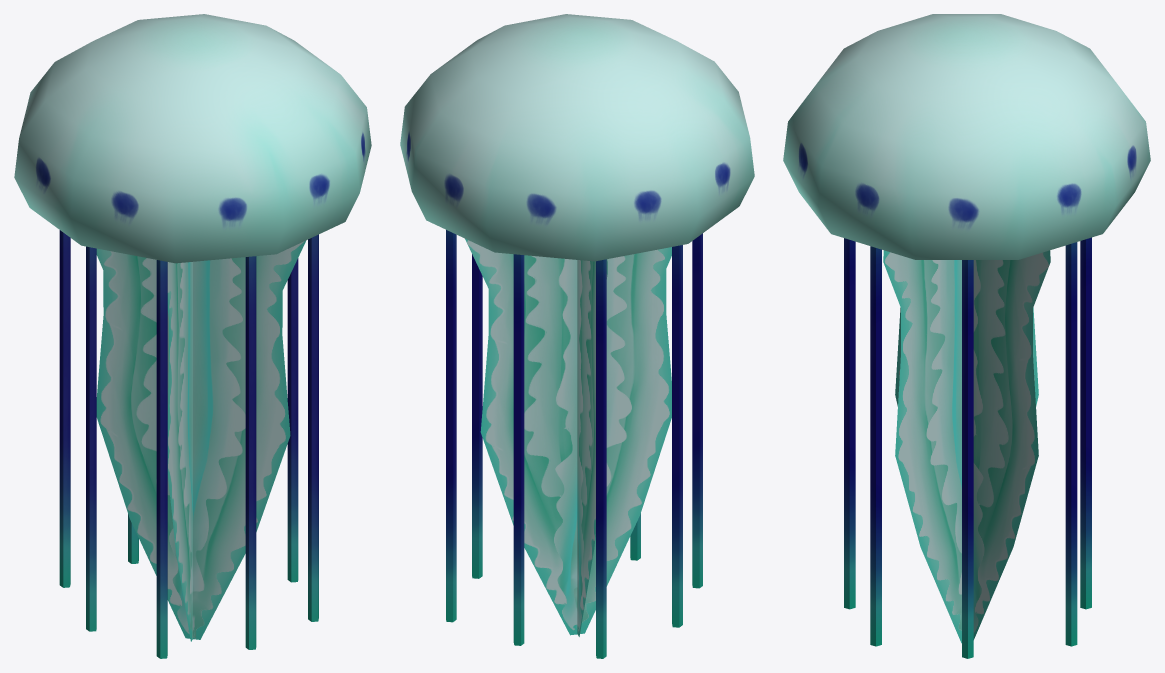
The model's file is jellyfish2.fbx.
3 views of the same model, side by side, from view 1: azimuth 30°, elevation 25°; view 2: azimuth 150°, elevation 25°; view 3: azimuth 270°, elevation 25° (orthographic).
Parts seen in each view (by area): view 1: polySurface1; view 2: polySurface1; view 3: polySurface1.
Part boxes in pixels (x1=…): polySurface1: x1=14, y1=14, x2=371, y2=658; polySurface1: x1=400, y1=14, x2=754, y2=658; polySurface1: x1=783, y1=14, x2=1150, y2=658.
Size of the model in its own units: 1.79 by 3.43 by 1.88.
1 material, 1 textured.
